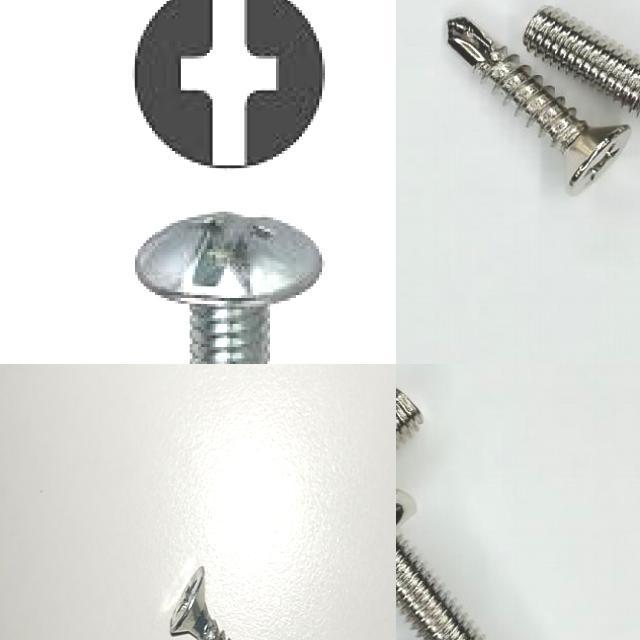Screw: (448, 17, 630, 194), (132, 212, 325, 364), (524, 6, 640, 113), (396, 536, 480, 640), (170, 566, 231, 640)
